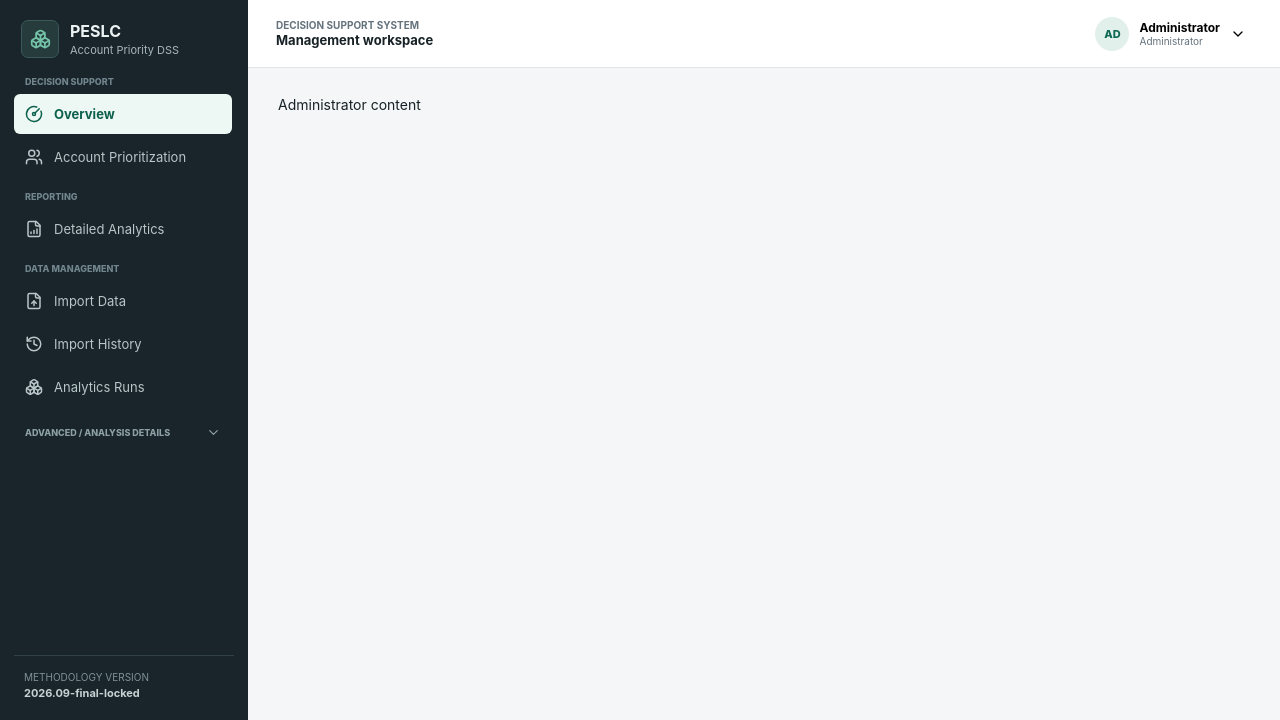
Test case: administrator advanced navigation is collapsed by default and retains every route
Expected: the text "Decision Support" is shown, [25,76,114,87]
Expected: the text "Reporting" is shown, [25,191,78,202]
Click the button "Advanced / Analysis Details" at {"x": 123, "y": 432}, box [14,421,232,444]
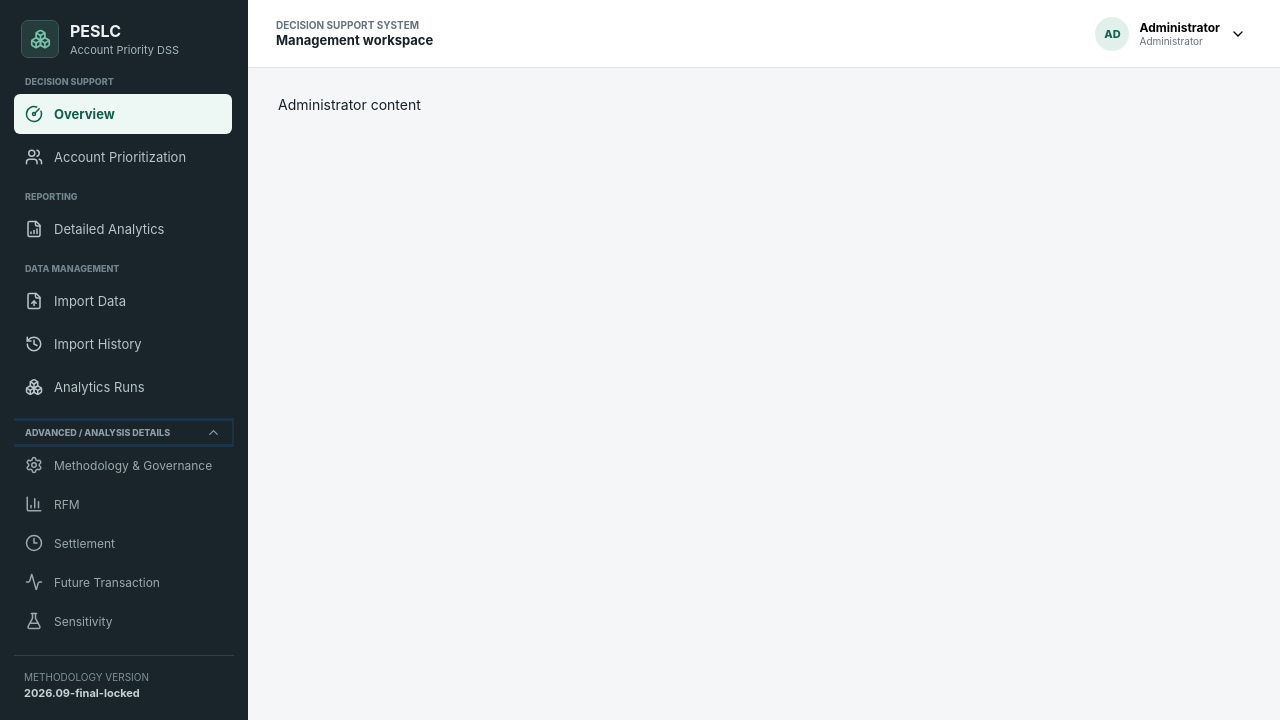
Expected: the button "Advanced / Analysis Details" is expanded, [14,421,232,444]
Expected: the link "Methodology & Governance" is shown, [25,456,212,474]
Expected: the link "RFM" is shown, [25,495,80,513]
